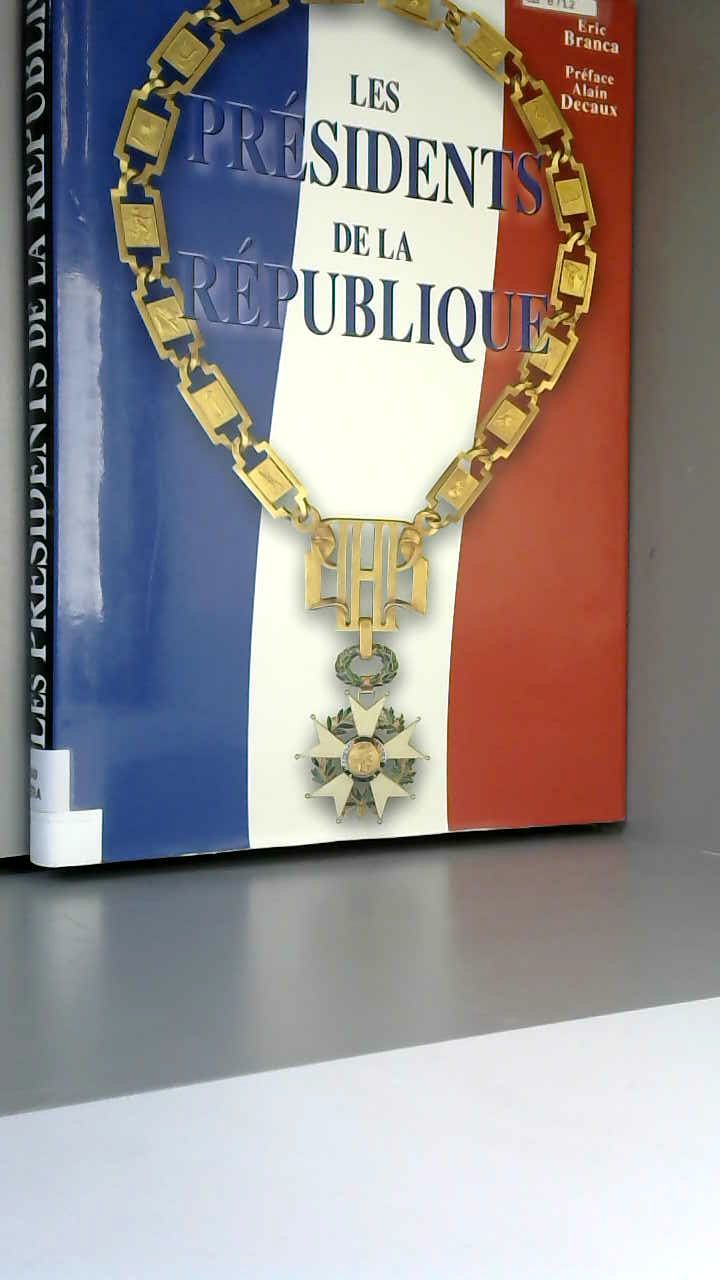book: (0, 0, 682, 927)
